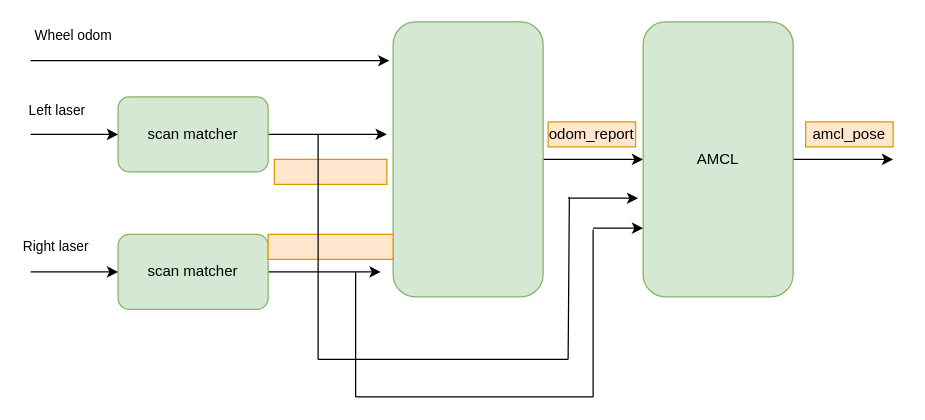
The diagram is 925 pixels wide and 420 high, and some of its shapes have lost their labels. The box of each missing label's shape, as (x1, y1, x2, y2) in pixels:
EKF fusion: (392, 21, 543, 297)
left_laser_odom: (273, 158, 387, 184)
right_laser_odom: (267, 233, 393, 259)
